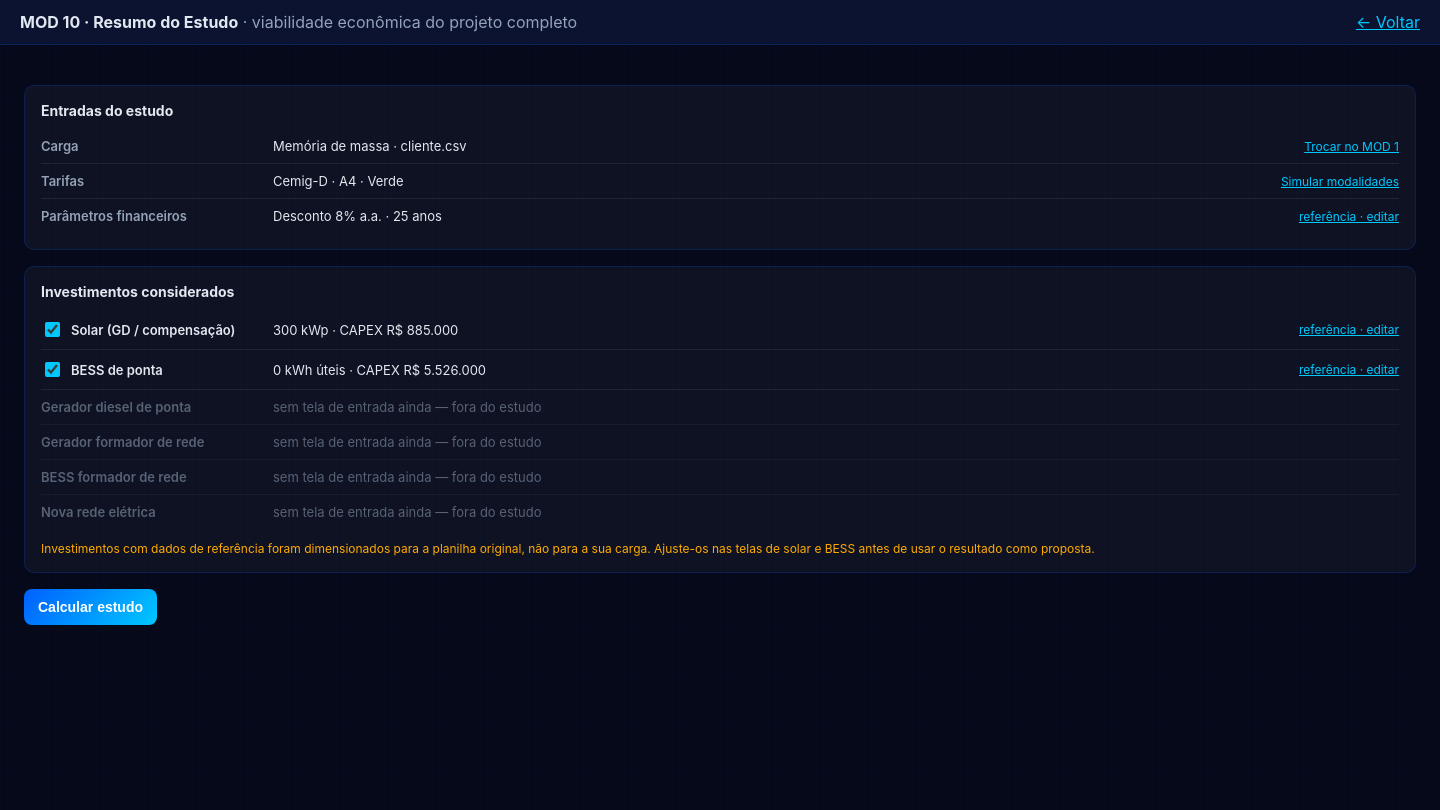
Test: SummaryPage › usa a carga carregada pelo usuário no MOD 1 e avisa sobre a mistura com a referência
The width and height of the screenshot is (1440, 810).
Expected: the text "Memória de massa · cliente.csv" is shown, 273,138 -> 467,154
Click the button "Calcular estudo". click: (90, 607)
box: 24,589 -> 157,625
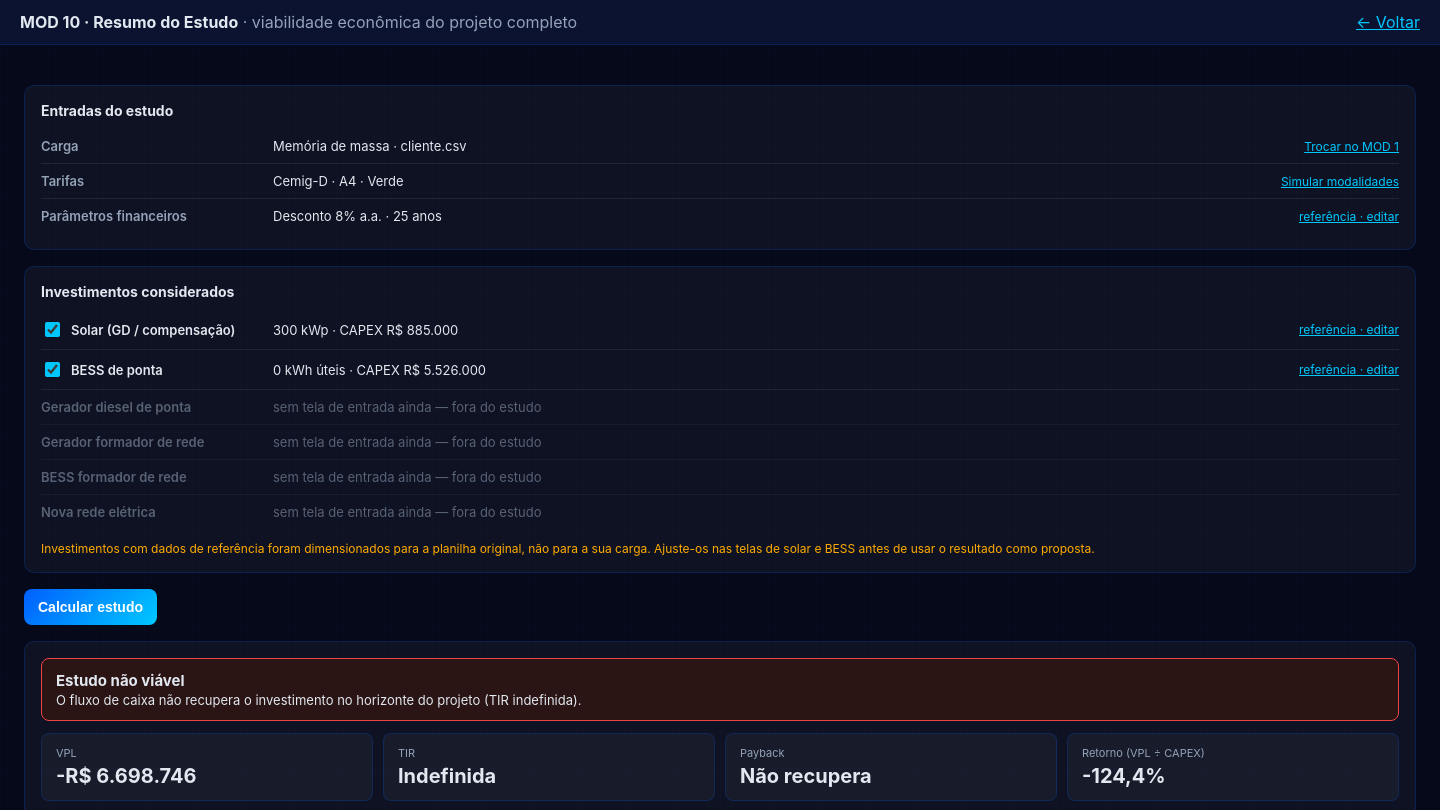
Expected: the text "Estudo não viável" is shown, 56,671 -> 185,690
